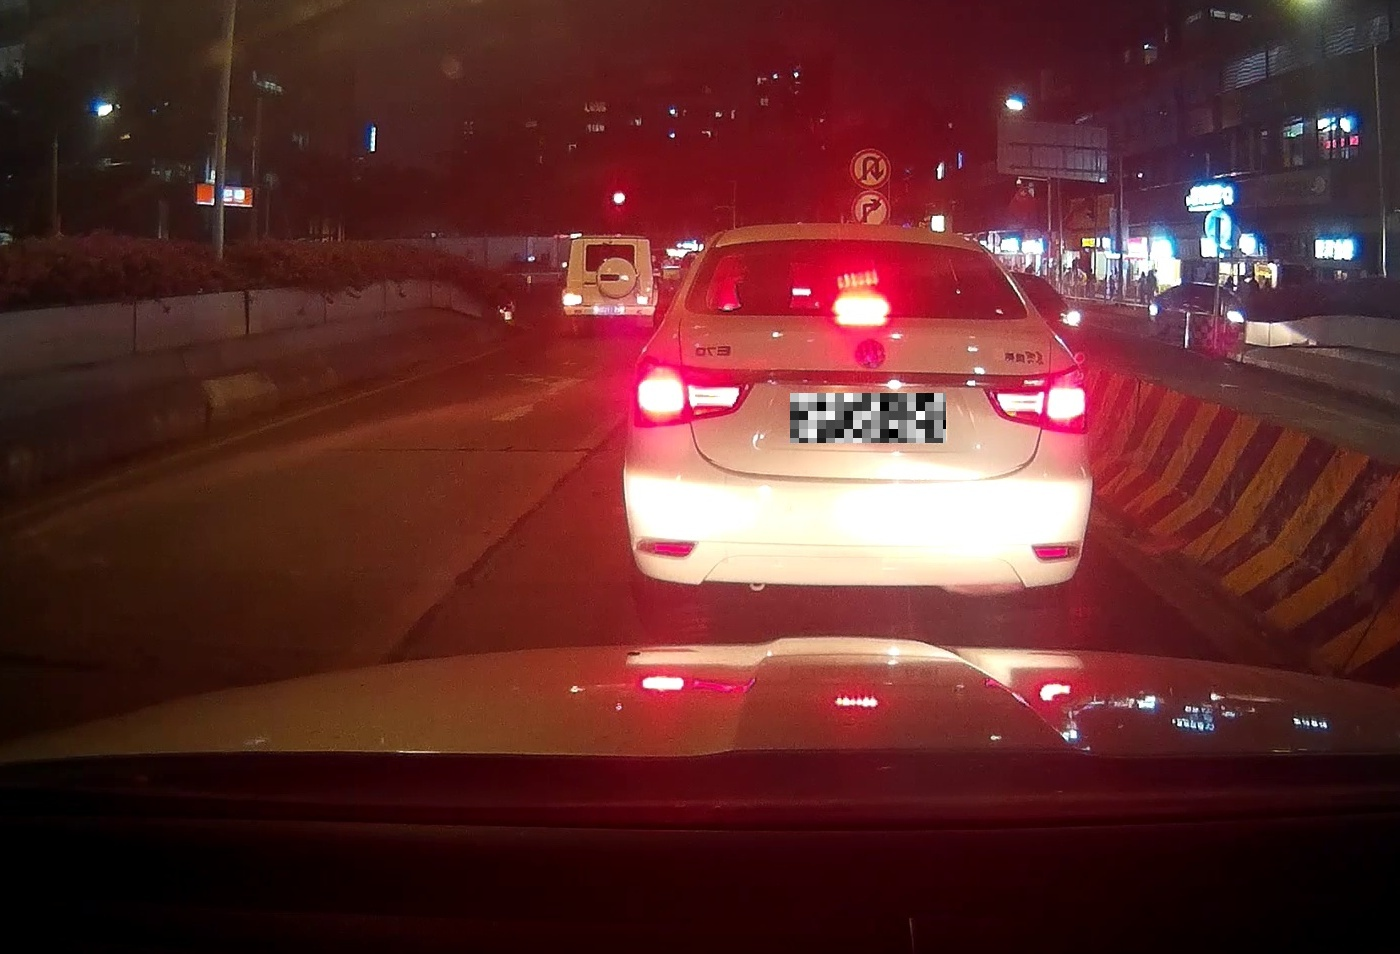L_light: (633, 359, 755, 426)
R_light: (983, 366, 1087, 432)
T_light: (832, 294, 889, 317)
night-brake: (624, 224, 1091, 630)
plate_1: (790, 394, 946, 443)
